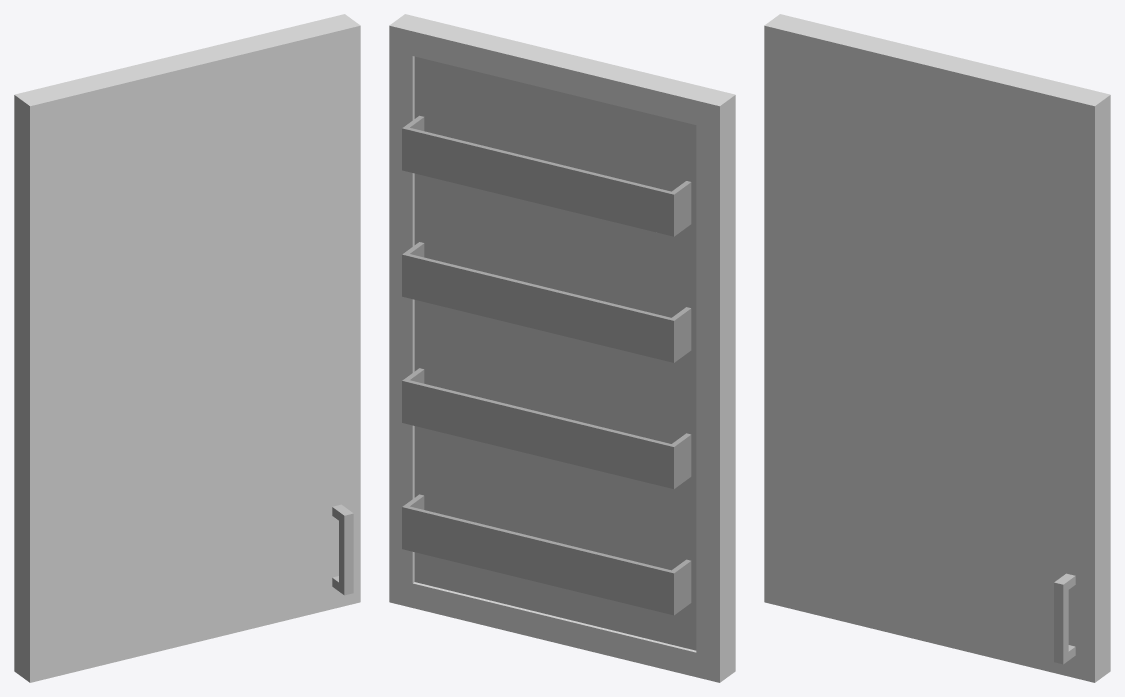
The model's file is Refrigerator2_C1_02.fbx.
3 renders of one model, left to right at view 1: azimuth 30°, elevation 25°; view 2: azimuth 150°, elevation 25°; view 3: azimuth 330°, elevation 25°, orthographic.
Visible parts, largest first — view 1: Refrigerator2_C1_02; view 2: Refrigerator2_C1_02; view 3: Refrigerator2_C1_02.
Part boxes in pixels (left/top/right/bottom): Refrigerator2_C1_02: left=14, top=14, right=360, bottom=682; Refrigerator2_C1_02: left=389, top=14, right=735, bottom=682; Refrigerator2_C1_02: left=764, top=14, right=1110, bottom=682.
Bounding box in the file's own units: 60 × 100 × 13.67.
